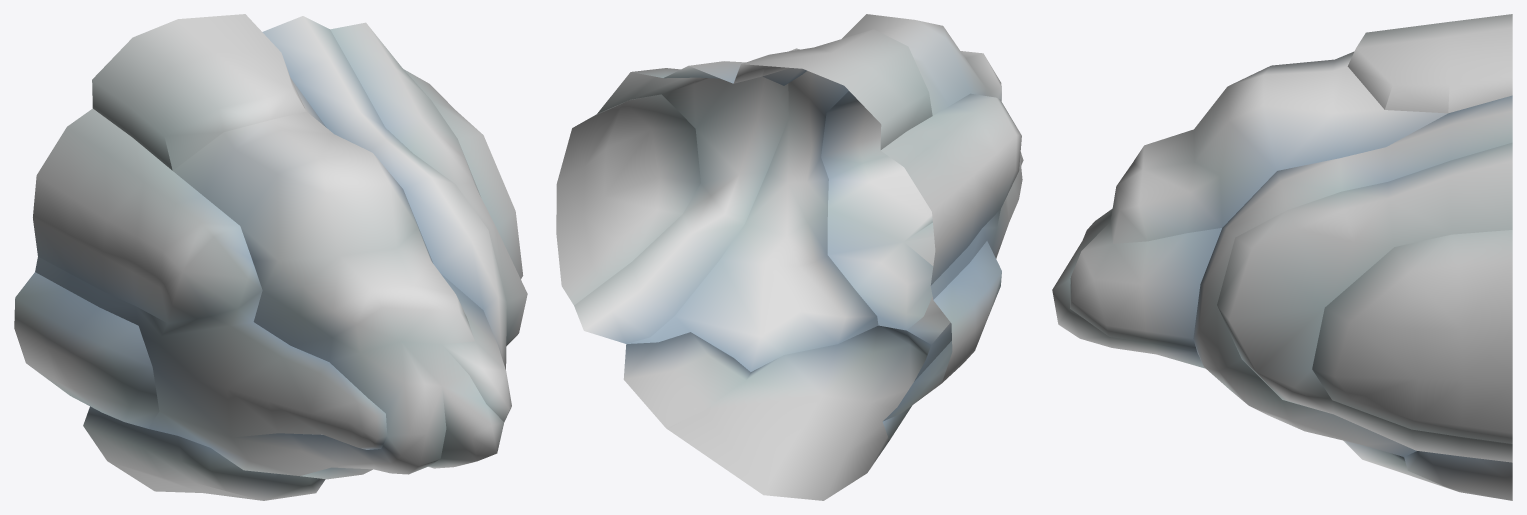
File: Rocks_Snow_LargeA.glb
3 views of the same model, side by side, from view 1: azimuth 30°, elevation 25°; view 2: azimuth 150°, elevation 25°; view 3: azimuth 270°, elevation 25° (orthographic). The views are drawn at different scales.
Visible parts, largest first — view 1: MeshNode_0; view 2: MeshNode_0; view 3: MeshNode_0.
Boxes of the visible parts, <box> form: MeshNode_0: <box>14,14,527,500</box>; MeshNode_0: <box>556,14,1023,500</box>; MeshNode_0: <box>1052,14,1512,500</box>.
Bounding box in the file's own units: 15.31 × 16.1 × 14.97.
